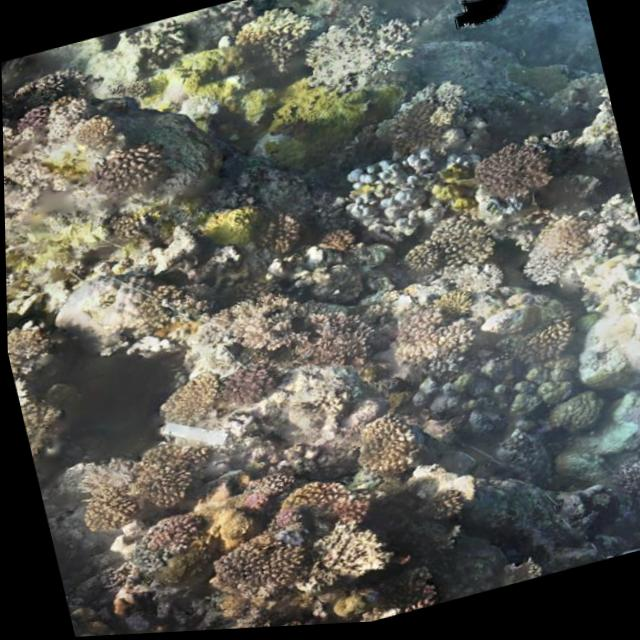Bleached Coral: (522, 207, 640, 409), (339, 126, 483, 255), (389, 245, 537, 368), (43, 244, 169, 369)
Healthy Coral: (31, 297, 442, 639)
